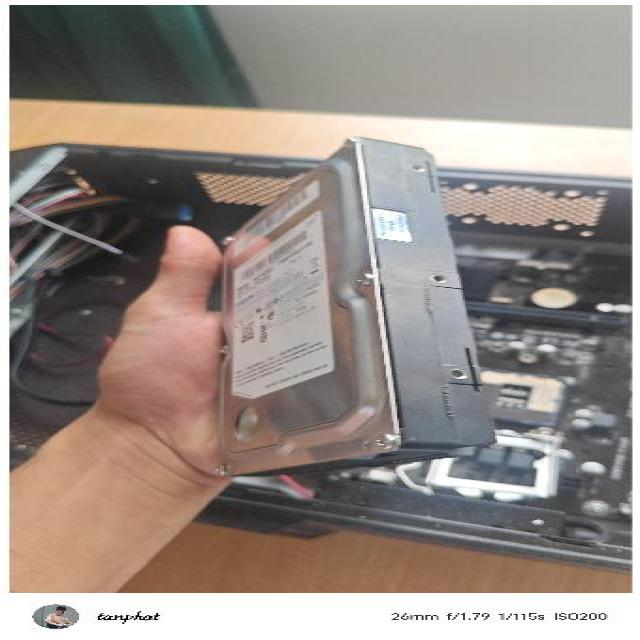DISK: (205, 130, 497, 484)
